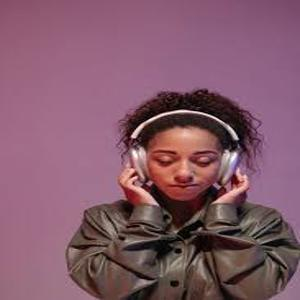Headphones: (127, 107, 243, 185)
